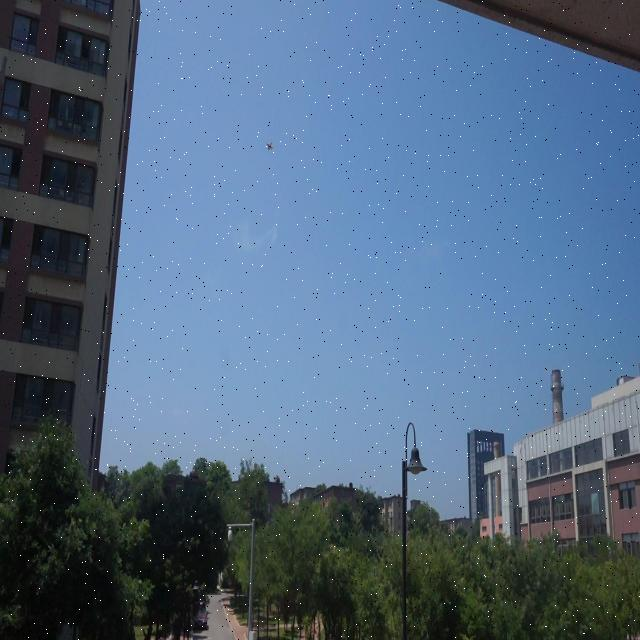UAV: (265, 140, 275, 153)
